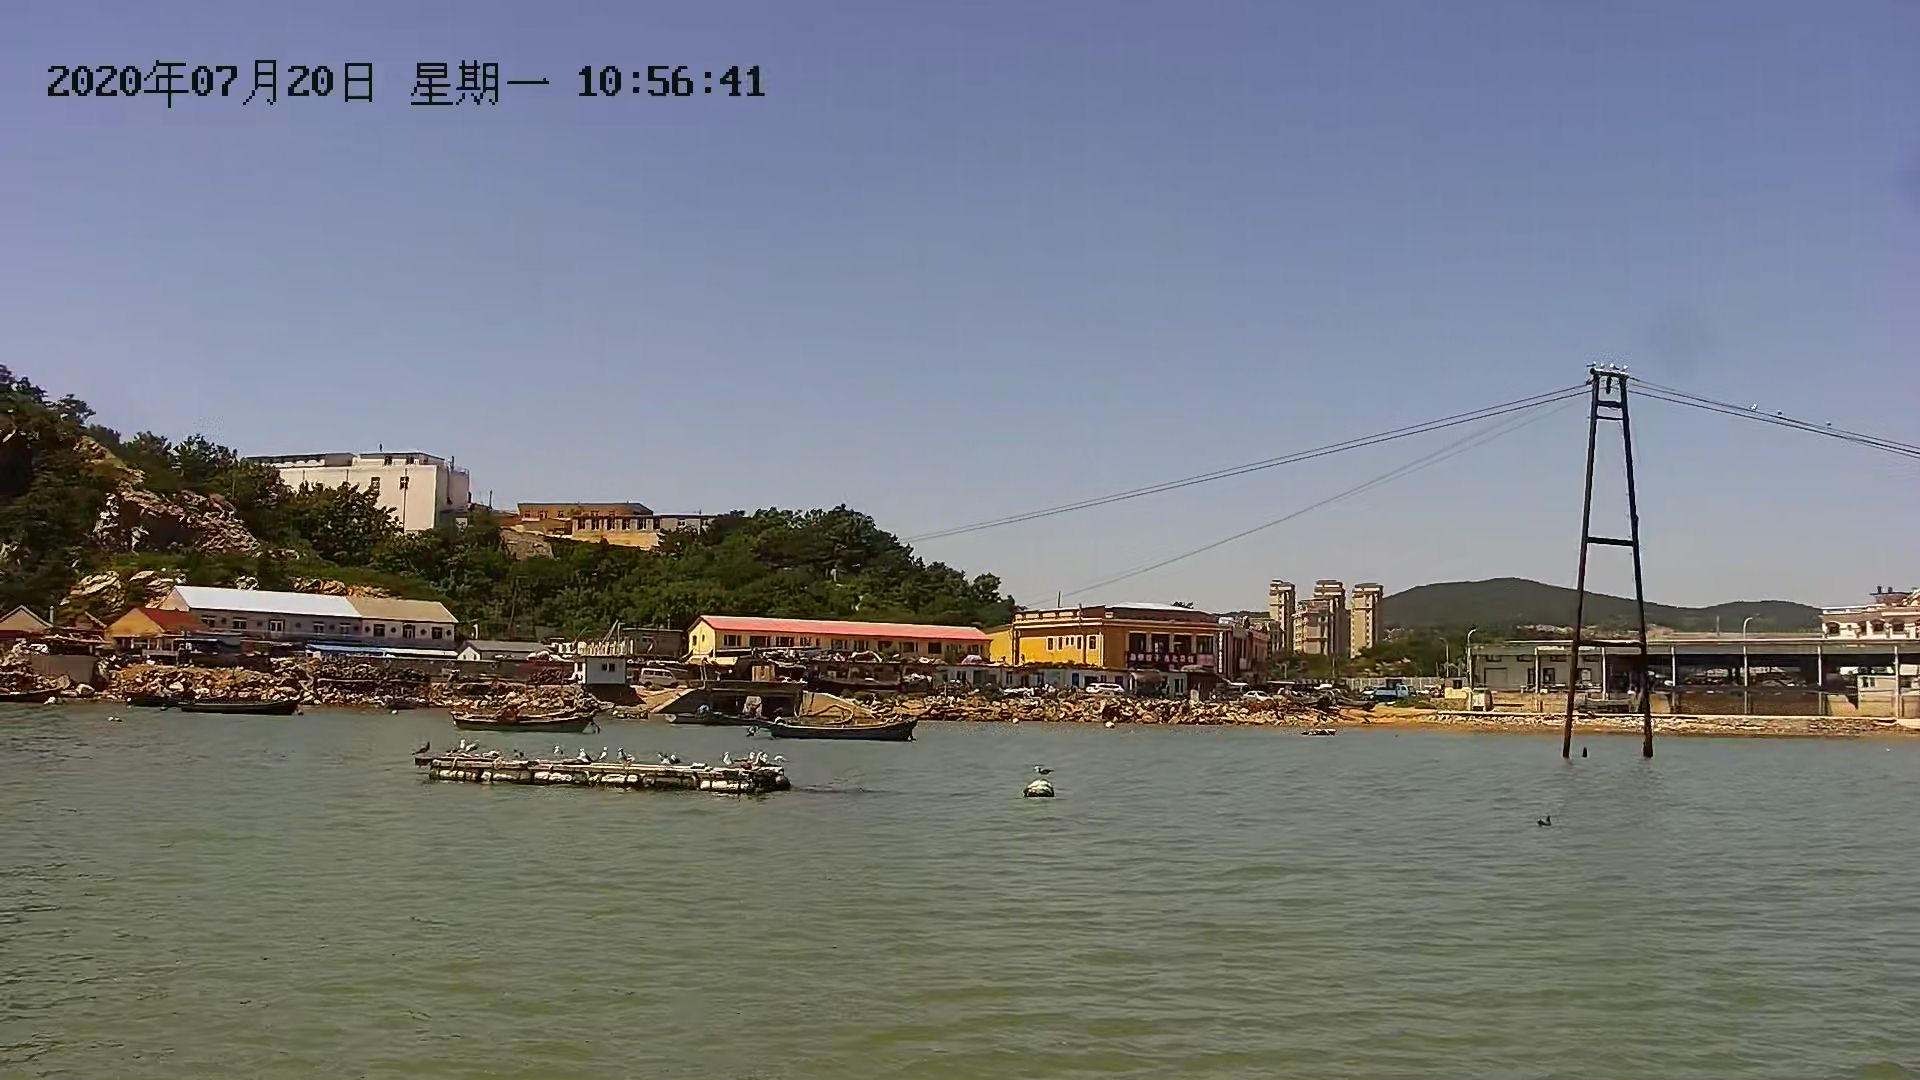animal: (1029, 760, 1059, 778), (1538, 812, 1559, 832)
boat: (757, 708, 919, 745), (444, 699, 596, 736), (177, 692, 309, 721)
mast: (1563, 364, 1659, 764)
platform: (415, 746, 796, 799)
rubbish: (1023, 775, 1054, 802)
